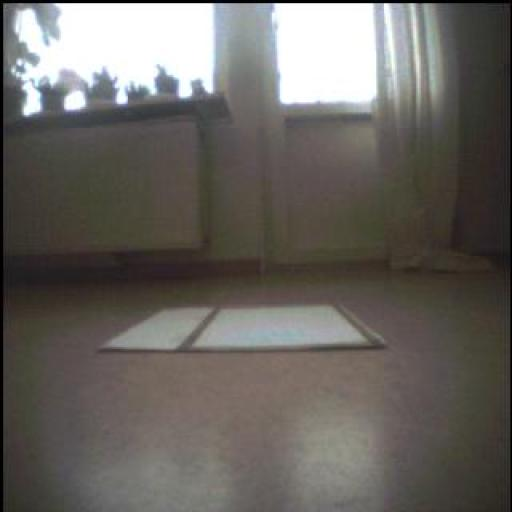Pad: (88, 303, 390, 347)
